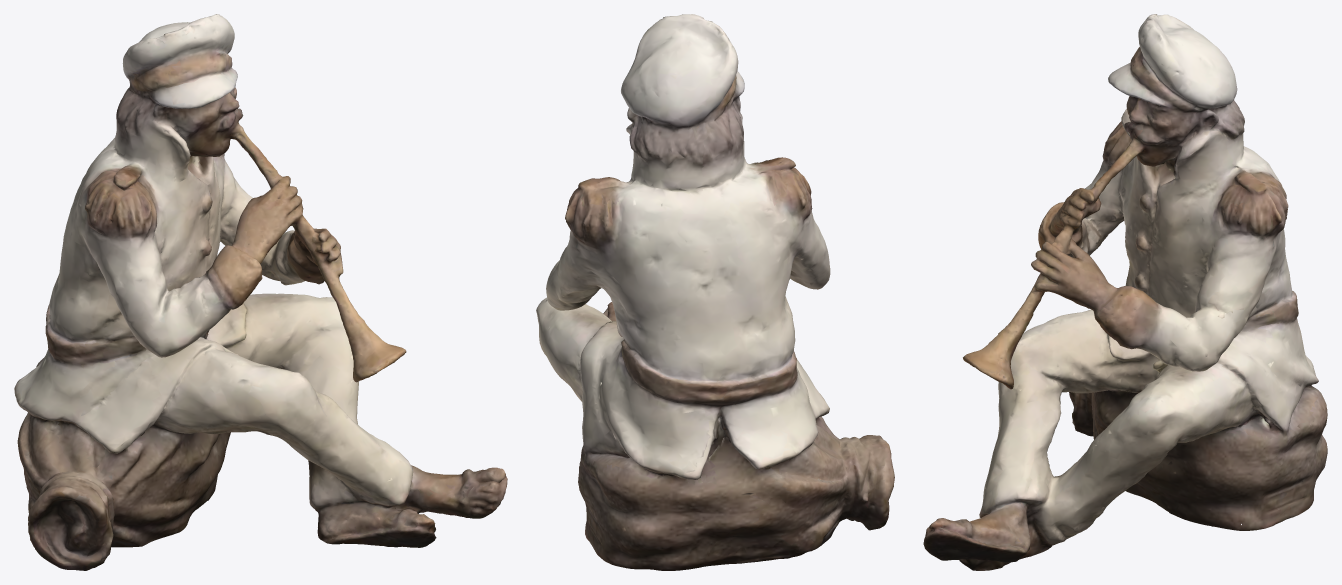
File: khanna-davinder-raj-tutu-walae.glb
3 views of the same model, side by side, from view 1: azimuth 30°, elevation 25°; view 2: azimuth 150°, elevation 25°; view 3: azimuth 270°, elevation 25° (orthographic).
Visible parts, largest first — view 1: SculptureE_010; view 2: SculptureE_010; view 3: SculptureE_010.
Boxes of the visible parts, box(x1,y1,x2,y2) form: SculptureE_010: box(14, 14, 507, 570); SculptureE_010: box(536, 14, 894, 570); SculptureE_010: box(923, 14, 1327, 570).
Size of the model in its own units: 18.23 by 22.44 by 17.03.
Materials: 1 (1 with a texture image).
